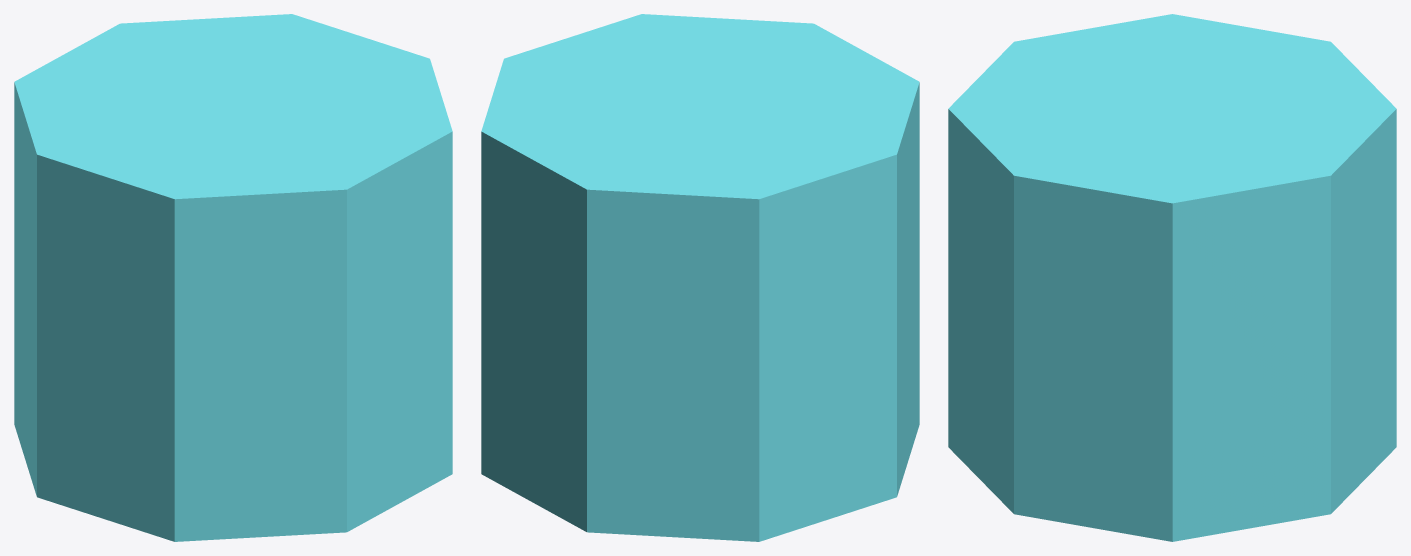
File: powerup_neutrino.glb
3 renders of one model, left to right at view 1: azimuth 30°, elevation 25°; view 2: azimuth 150°, elevation 25°; view 3: azimuth 270°, elevation 25°, orthographic.
Size of the model in its own units: 1.2 by 1 by 1.2.
